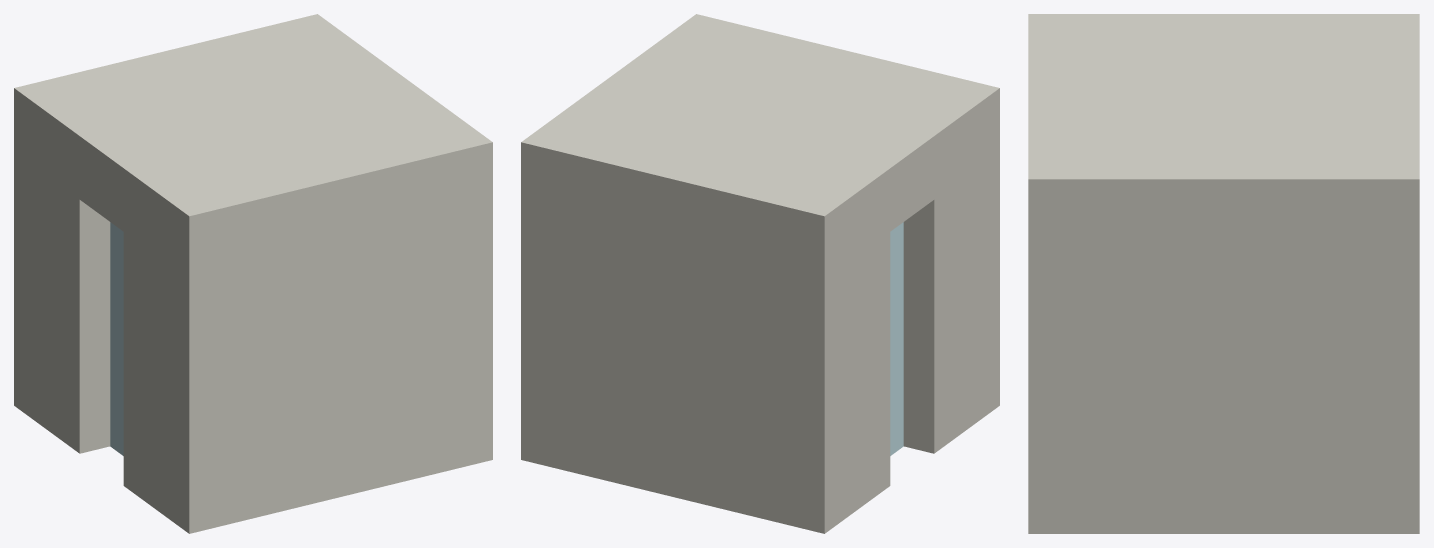
Rendered from Building Story 28.fbx.
3 views of the same model, side by side, from view 1: azimuth 30°, elevation 25°; view 2: azimuth 150°, elevation 25°; view 3: azimuth 270°, elevation 25° (orthographic). The views are drawn at different scales.
Parts seen in each view (by area): view 1: Building Story 28; view 2: Building Story 28; view 3: Building Story 28.
Boxes of the visible parts, box(x1,y1,x2,y2) form: Building Story 28: box(14, 14, 492, 533); Building Story 28: box(521, 14, 999, 533); Building Story 28: box(1028, 14, 1419, 533).
Size of the model in its own units: 1 by 1 by 1.
